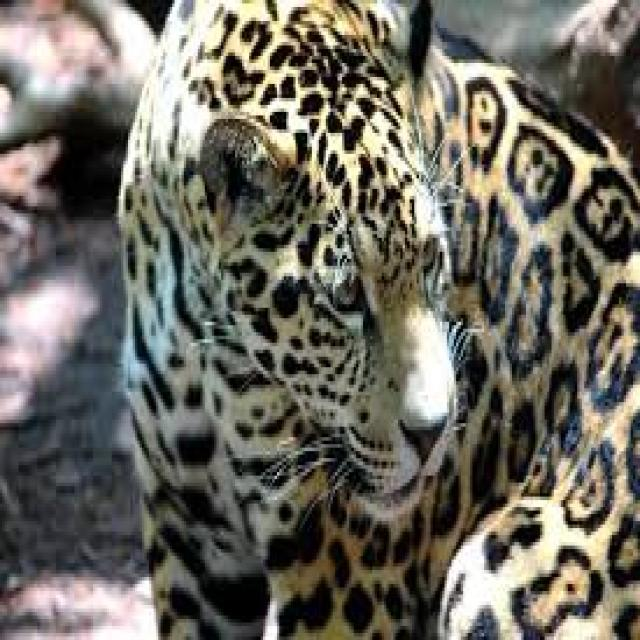Jaguar: (142, 3, 556, 640)
